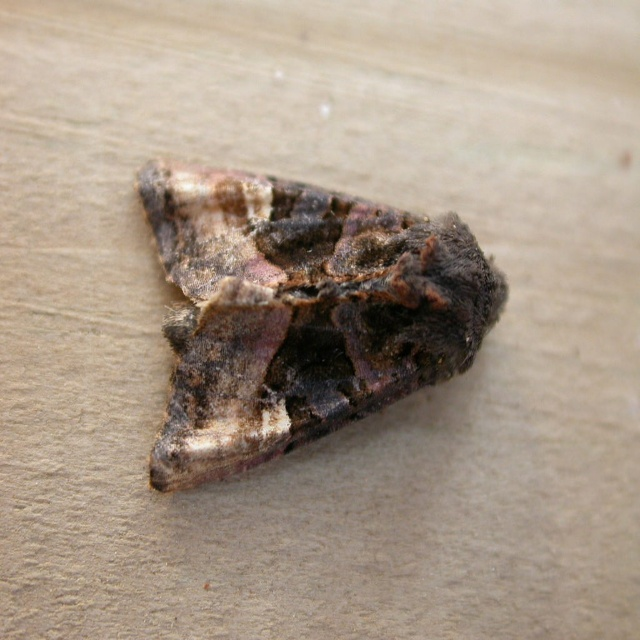Moths and butterflies: (134, 155, 511, 495)
